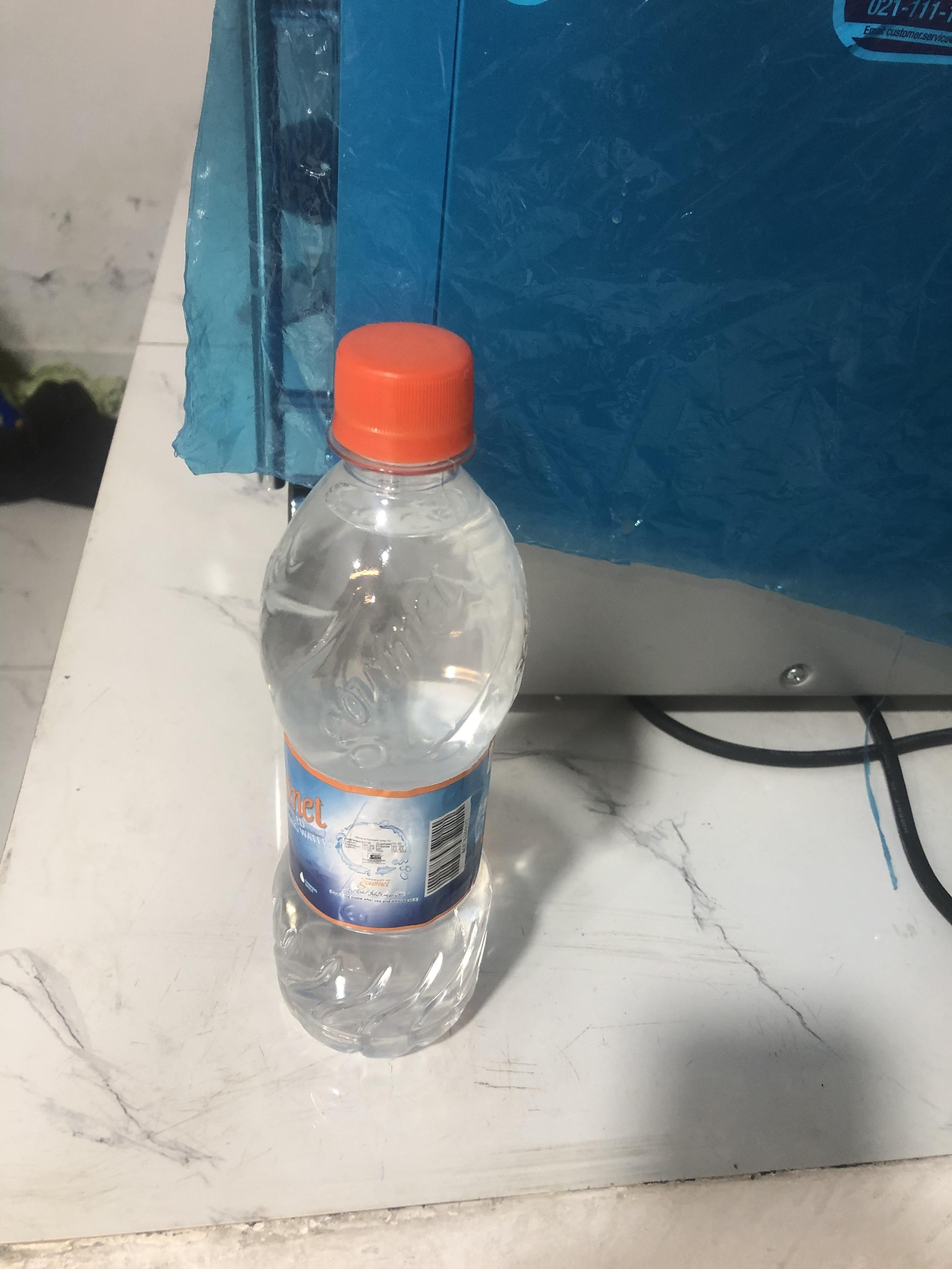bottle-plastic: (247, 310, 542, 1063)
